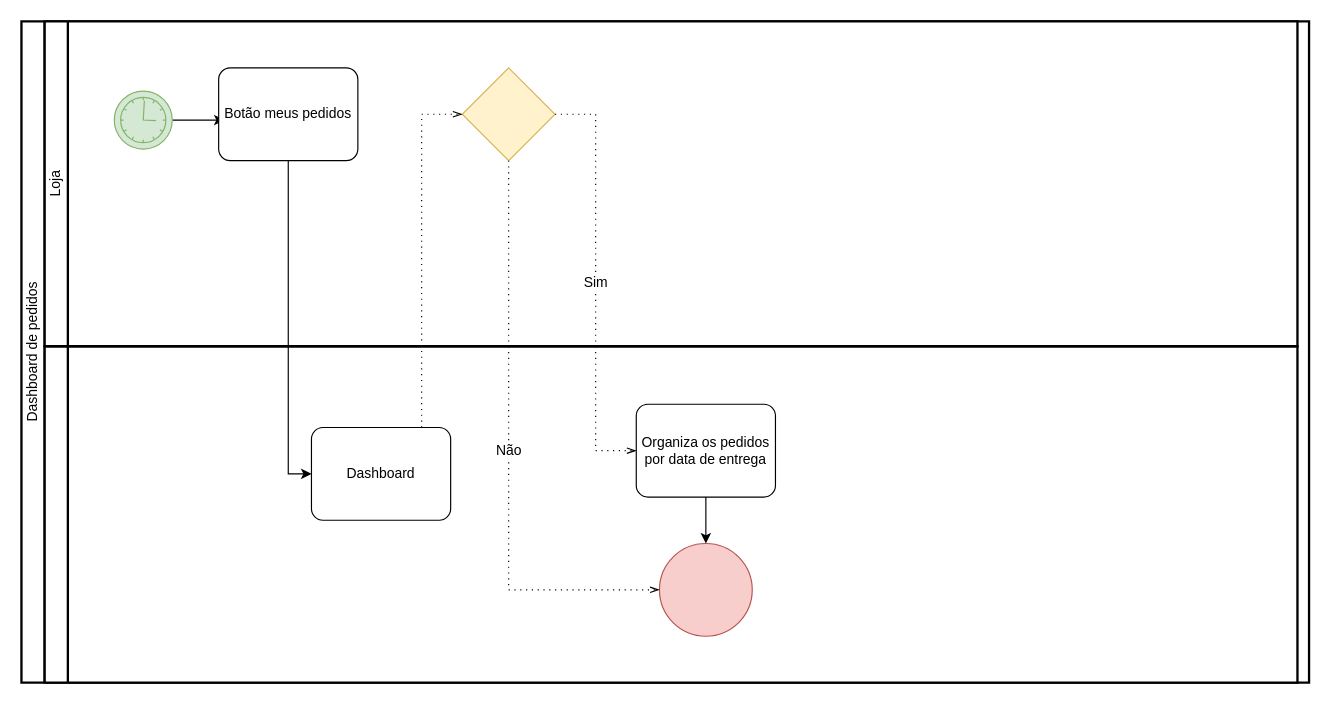
This 1329x703 diagram has some shape labels left out. The shapes that lost their labels are listed below. From the top down, each one's box as (x1, y1, x2, y2) in pixels, then its label:
(461, 67, 555, 161): Deseja filtrar por data de entrega?
(43, 345, 1298, 683): Site
(658, 542, 752, 636): Entregue
